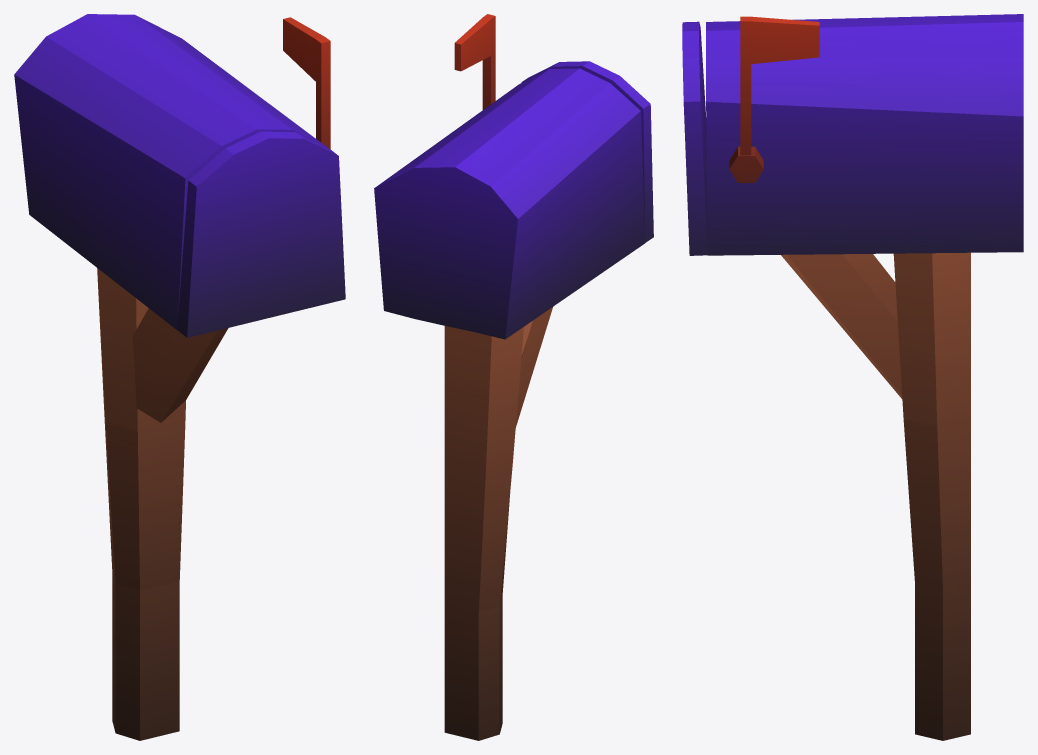
The picture shows the model from 3 angles, left to right: view 1: azimuth 30°, elevation 25°; view 2: azimuth 150°, elevation 25°; view 3: azimuth 270°, elevation 25°; orthographic projection. The views are drawn at different scales.
Visible parts, largest first — view 1: 5.001; view 2: 5.001; view 3: 5.001.
Part boxes in pixels (<box>): 5.001: <box>14,14,345,740</box>; 5.001: <box>374,14,653,740</box>; 5.001: <box>682,14,1023,740</box>.
Size of the model in its own units: 0.7957 by 3.16 by 1.31.
1 material, 1 textured.
